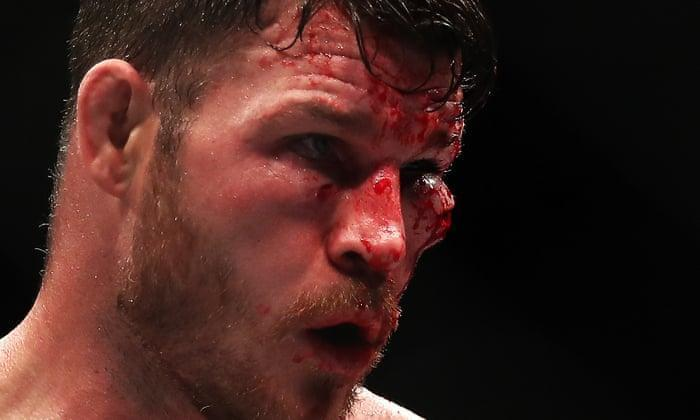Fire: (244, 1, 464, 394)
